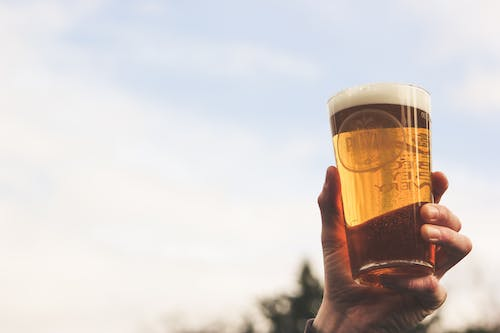alcohol: (326, 80, 436, 289)
